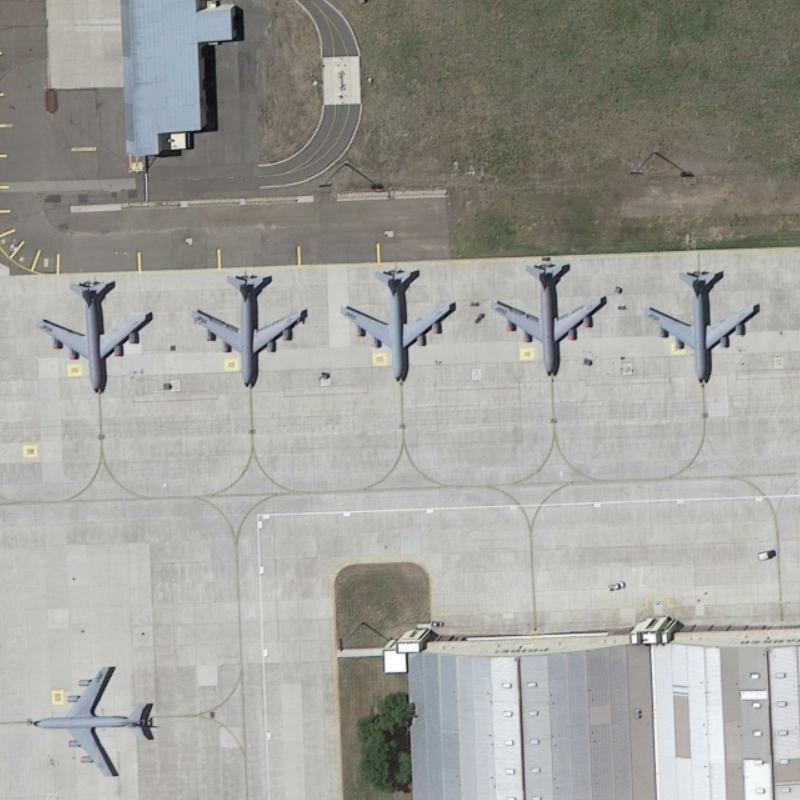A14: (25, 655, 172, 782), (187, 260, 310, 393), (482, 259, 614, 381), (642, 256, 764, 388), (337, 261, 460, 388), (37, 277, 155, 401)
